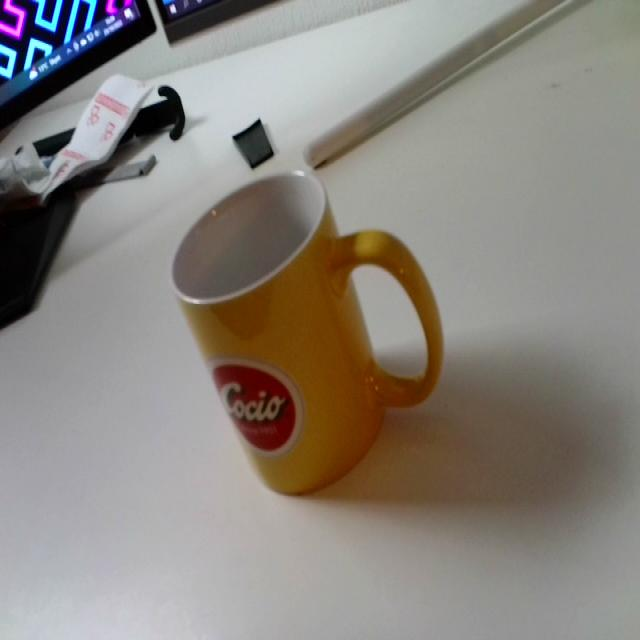Cocio Cup: (163, 167, 449, 491)
